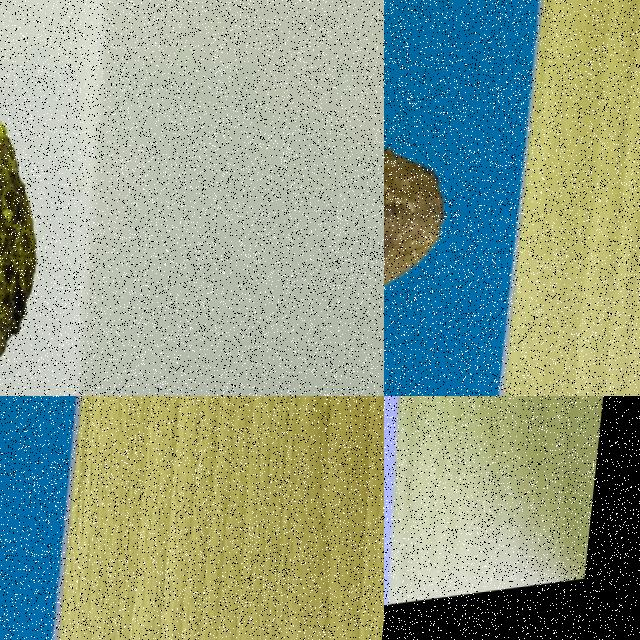Fine_cocoabeans: (384, 51, 512, 395)
Flat_cocoabeans: (0, 72, 97, 395)
